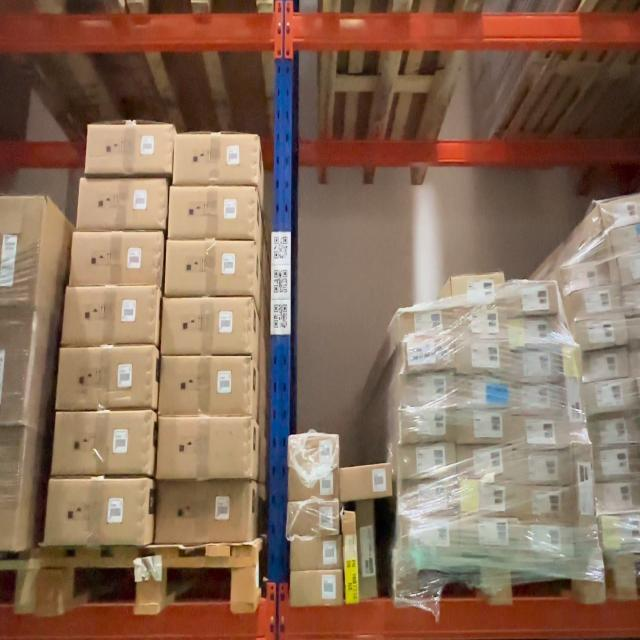box: (48, 480, 150, 543), (157, 417, 253, 479), (54, 414, 153, 474), (155, 482, 252, 542), (58, 349, 155, 408), (162, 358, 251, 417), (66, 288, 158, 344), (168, 241, 257, 295), (165, 298, 252, 352), (75, 232, 162, 285), (172, 188, 256, 240), (81, 179, 168, 229), (89, 126, 173, 176), (176, 134, 260, 183), (575, 455, 602, 566), (566, 346, 588, 451), (401, 519, 462, 555), (400, 445, 457, 482), (515, 486, 575, 521), (511, 449, 572, 483), (516, 526, 573, 562), (359, 502, 379, 603), (508, 415, 568, 448), (462, 520, 516, 556), (458, 446, 512, 482), (457, 341, 510, 377), (402, 375, 456, 409), (403, 339, 457, 373), (402, 482, 459, 514), (401, 410, 454, 444), (457, 411, 510, 445), (508, 280, 561, 314), (508, 350, 564, 382), (510, 384, 566, 416), (458, 378, 512, 411), (585, 379, 637, 413), (507, 314, 562, 346), (461, 482, 514, 515), (452, 305, 504, 338), (290, 571, 340, 605), (342, 465, 392, 499), (289, 503, 340, 535), (452, 272, 503, 304), (574, 316, 625, 348), (290, 538, 340, 570), (402, 308, 453, 339), (579, 351, 630, 382), (290, 436, 339, 468), (593, 448, 640, 481), (289, 470, 339, 501), (569, 288, 620, 318), (562, 261, 614, 290), (595, 480, 640, 512), (603, 517, 639, 557), (589, 418, 639, 446), (598, 196, 640, 227), (344, 510, 358, 602), (614, 227, 640, 256), (621, 256, 640, 286), (624, 283, 640, 314), (630, 346, 640, 382), (631, 316, 640, 354)
